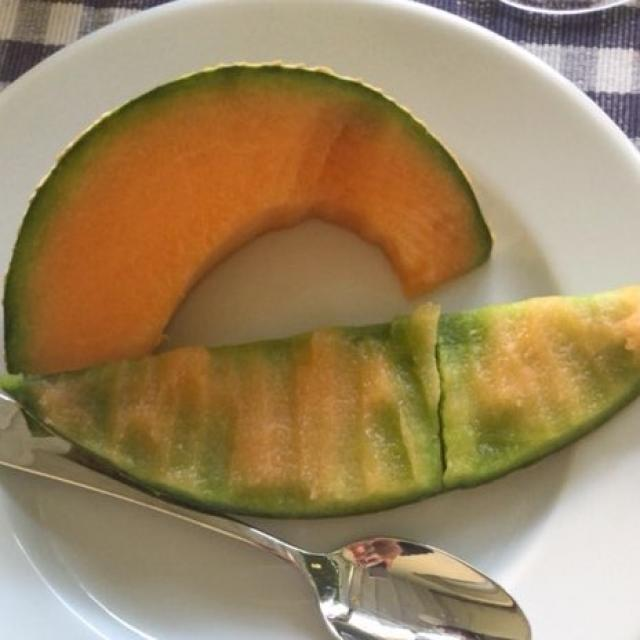melon: (24, 72, 488, 369)
